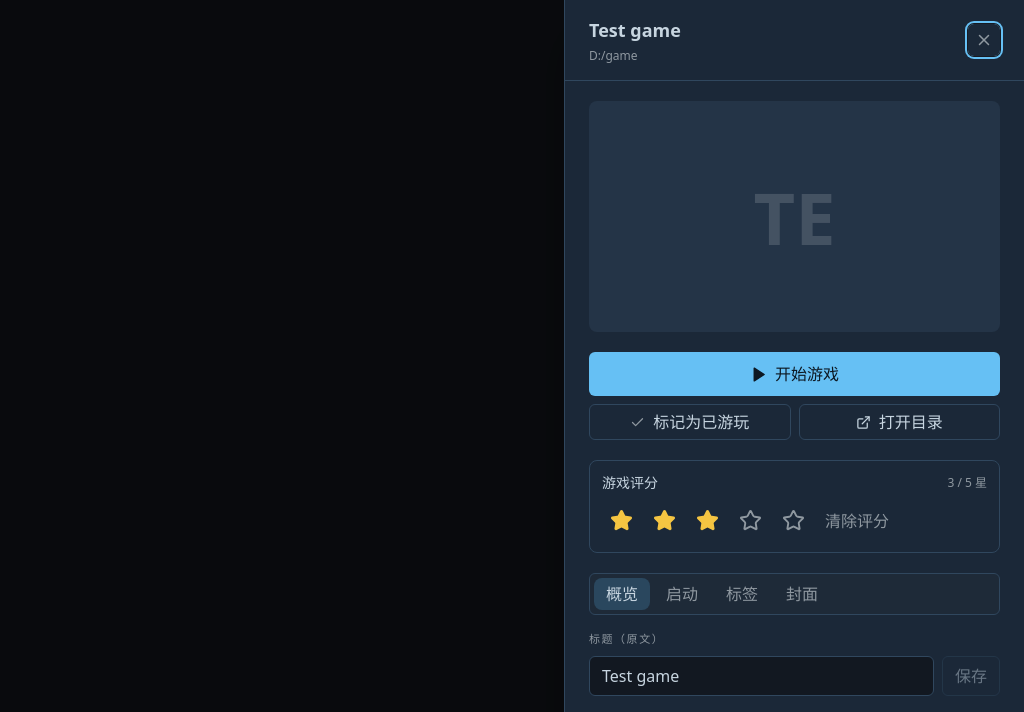
Test: keeps the saved rating when a write is rejected
The image size is (1024, 712).
Click the button named "评为 5 星" at (794, 521), box [774,501,813,540]
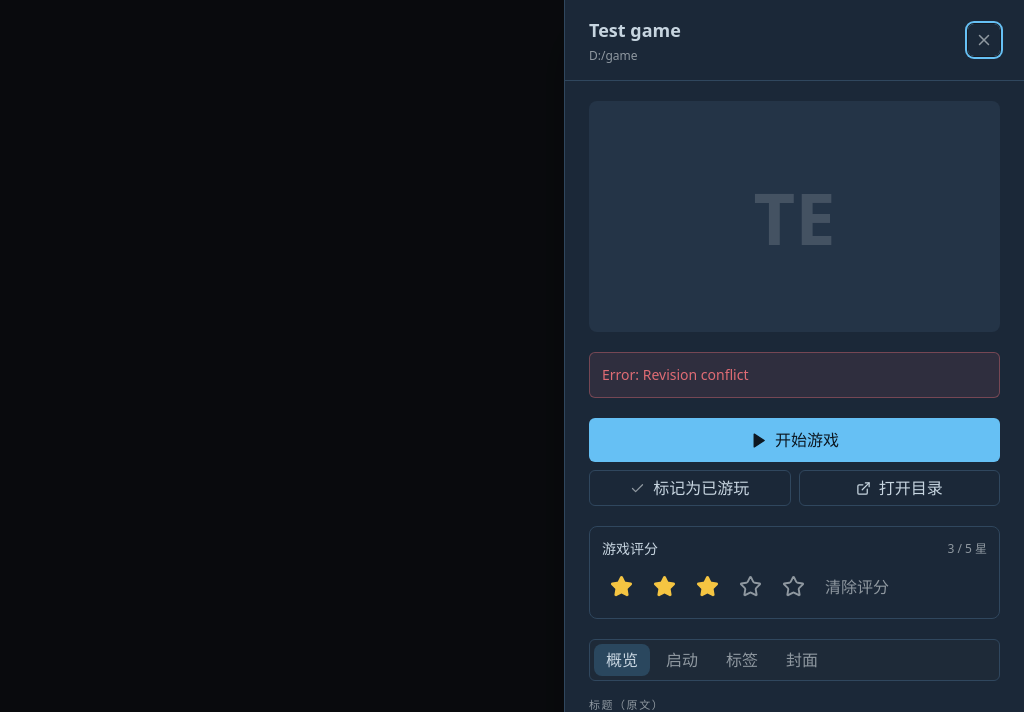
Check: the message shows "Revision conflict", box [602,365,748,384]
